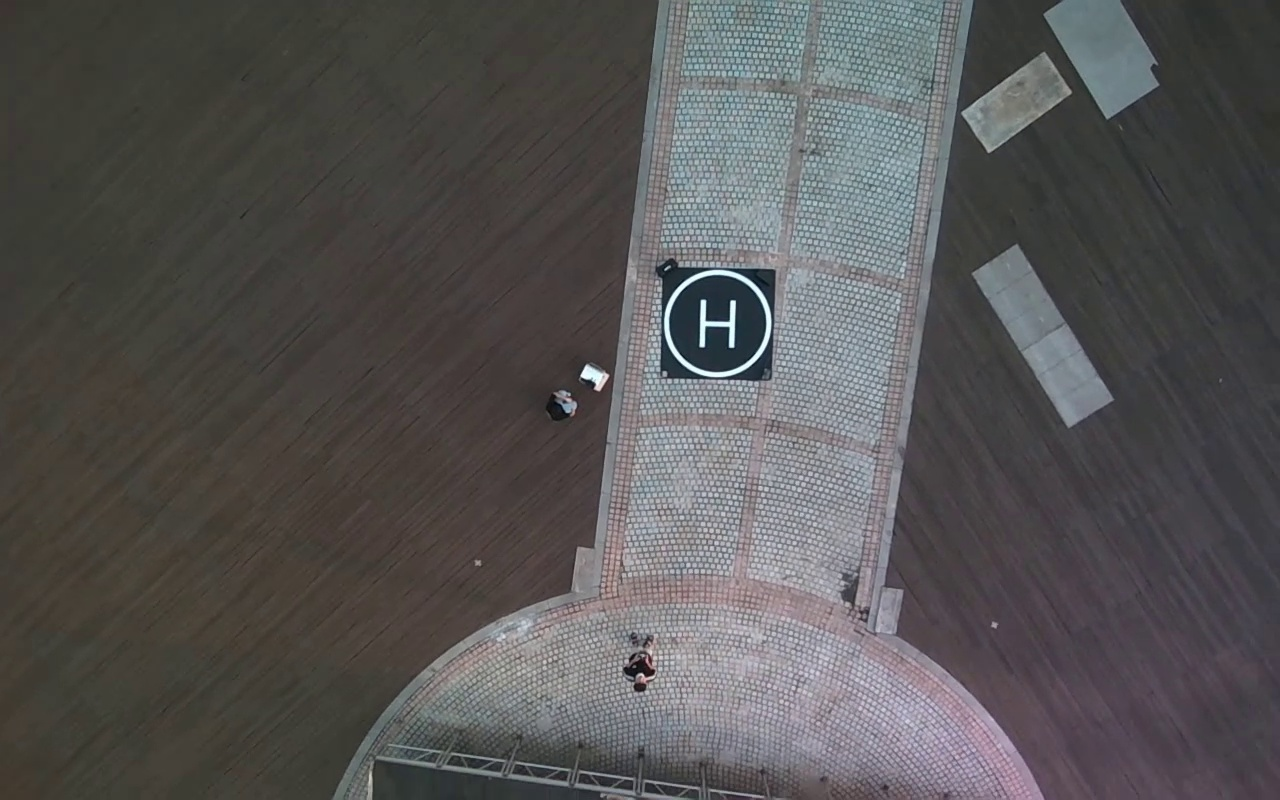H: (699, 298, 735, 348)
heliport: (662, 269, 772, 380)
